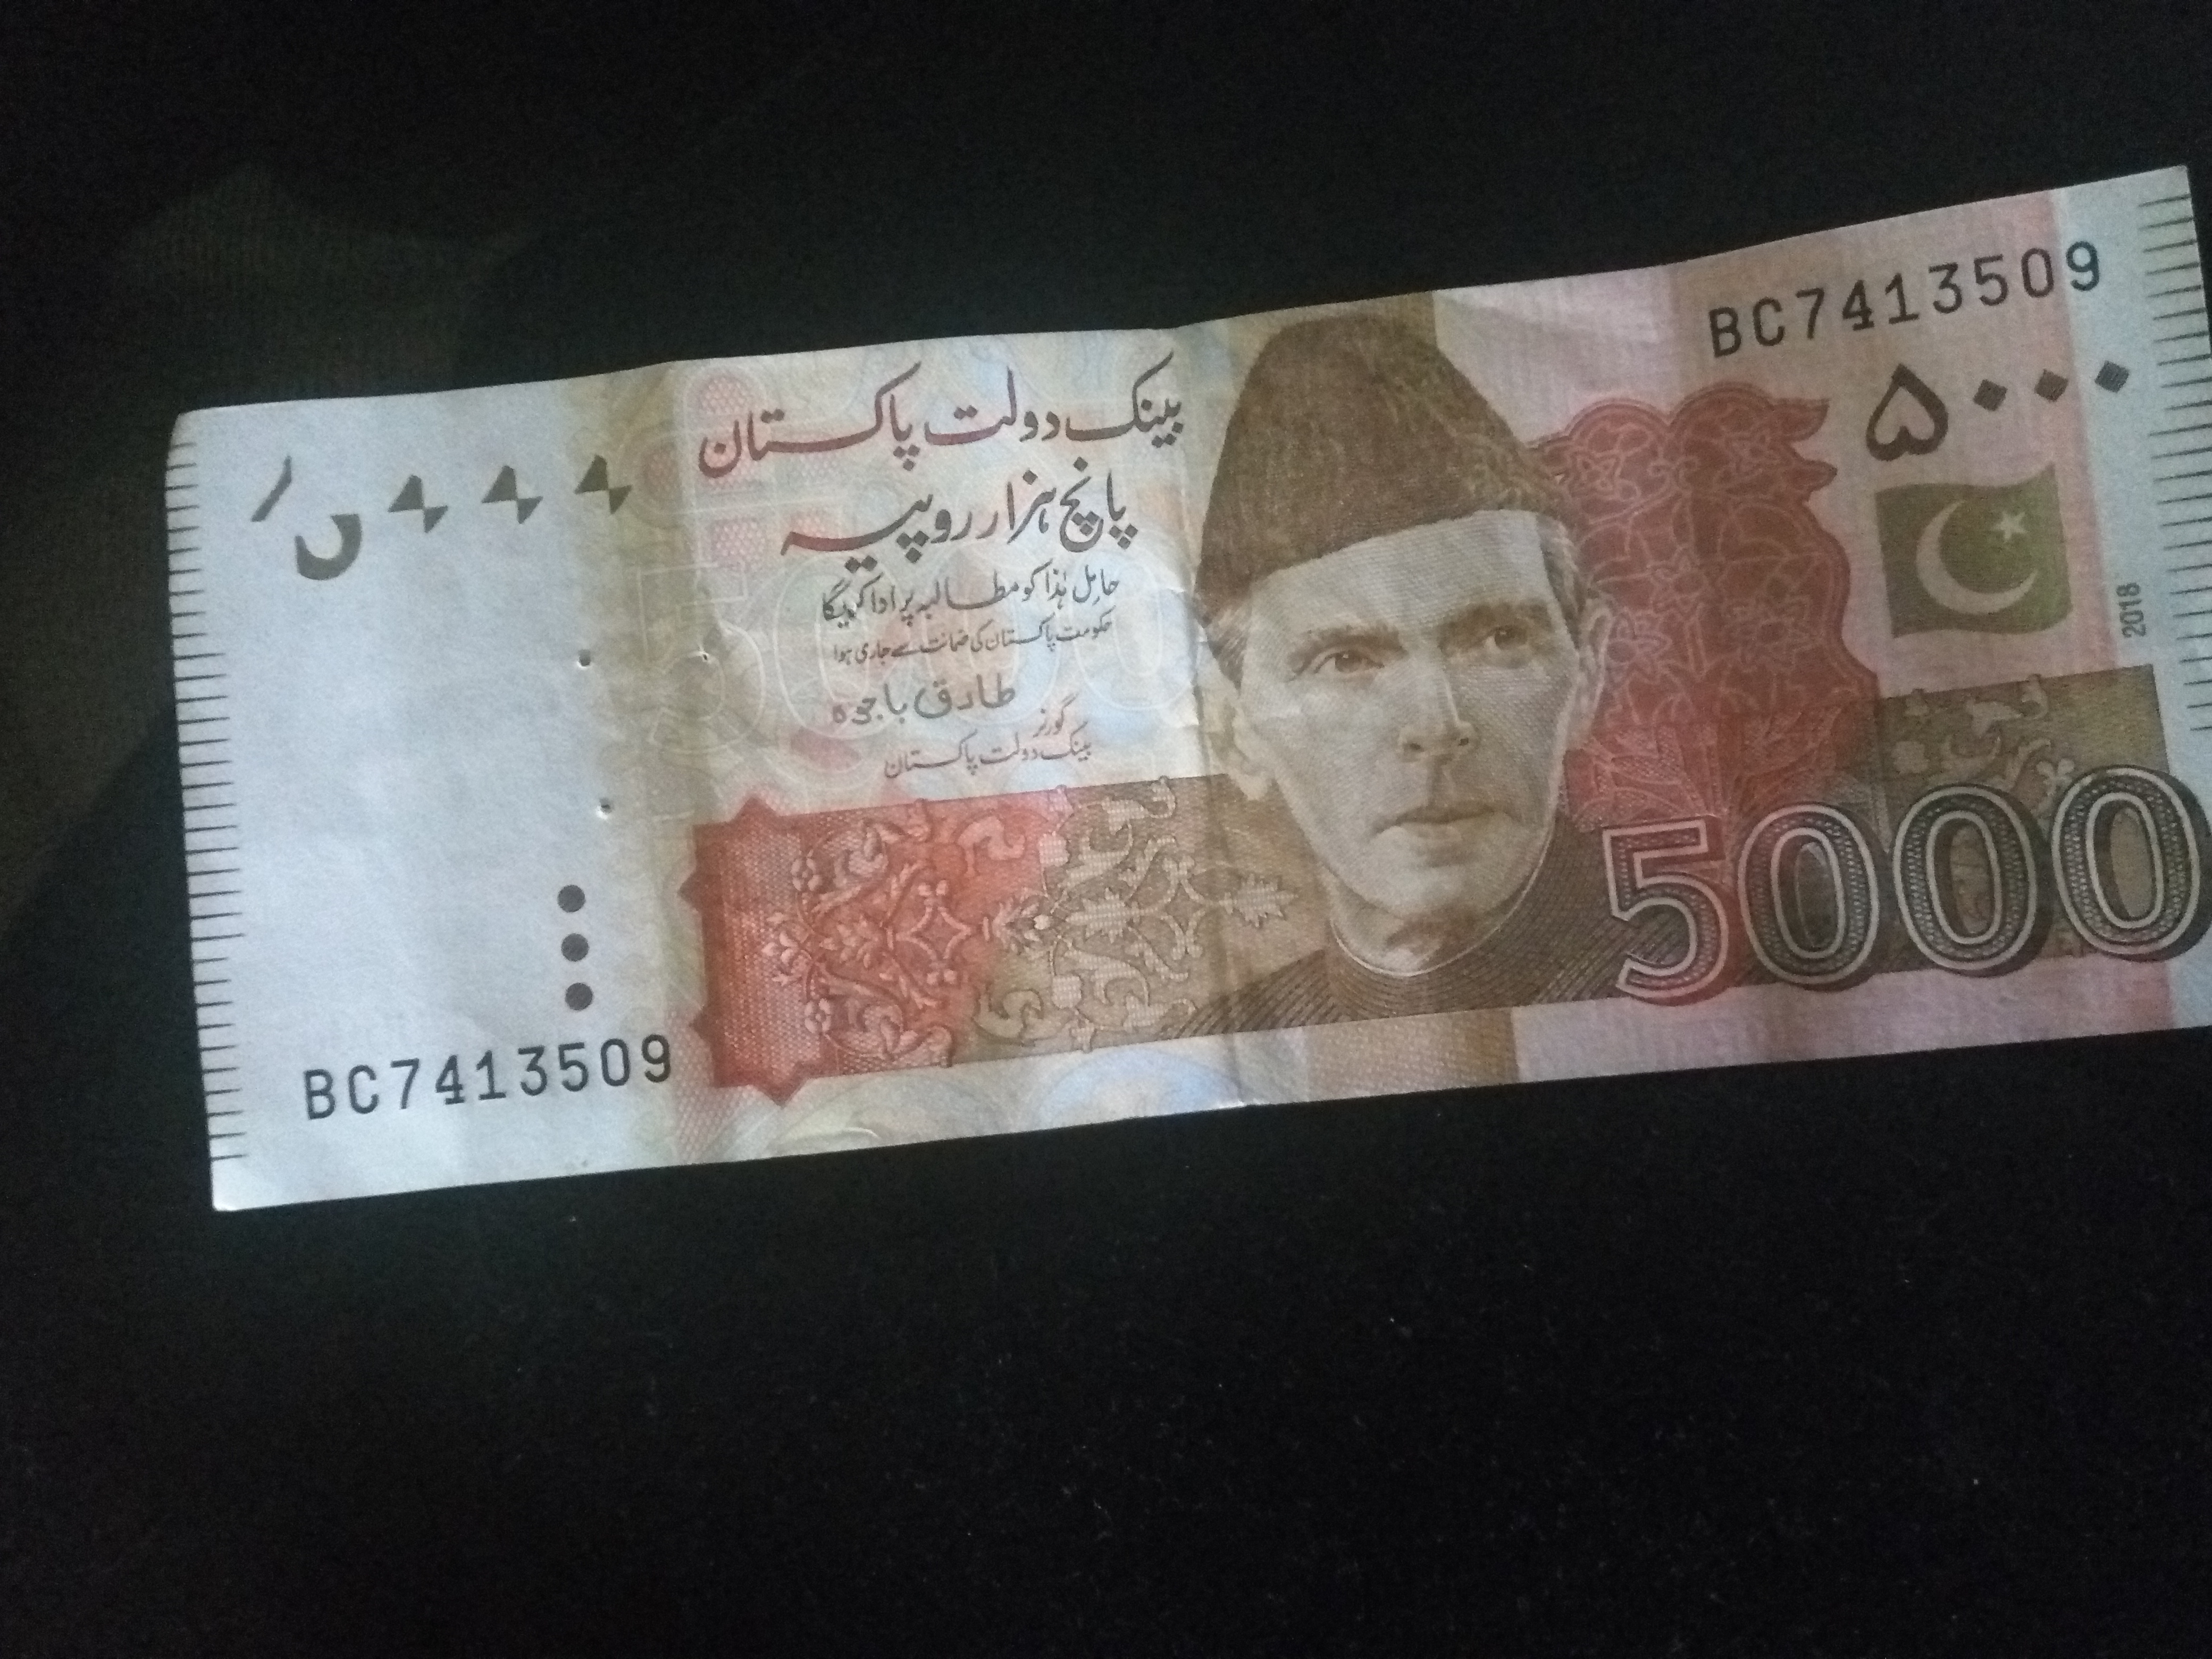5000 rupee: (106, 179, 2186, 1366)
